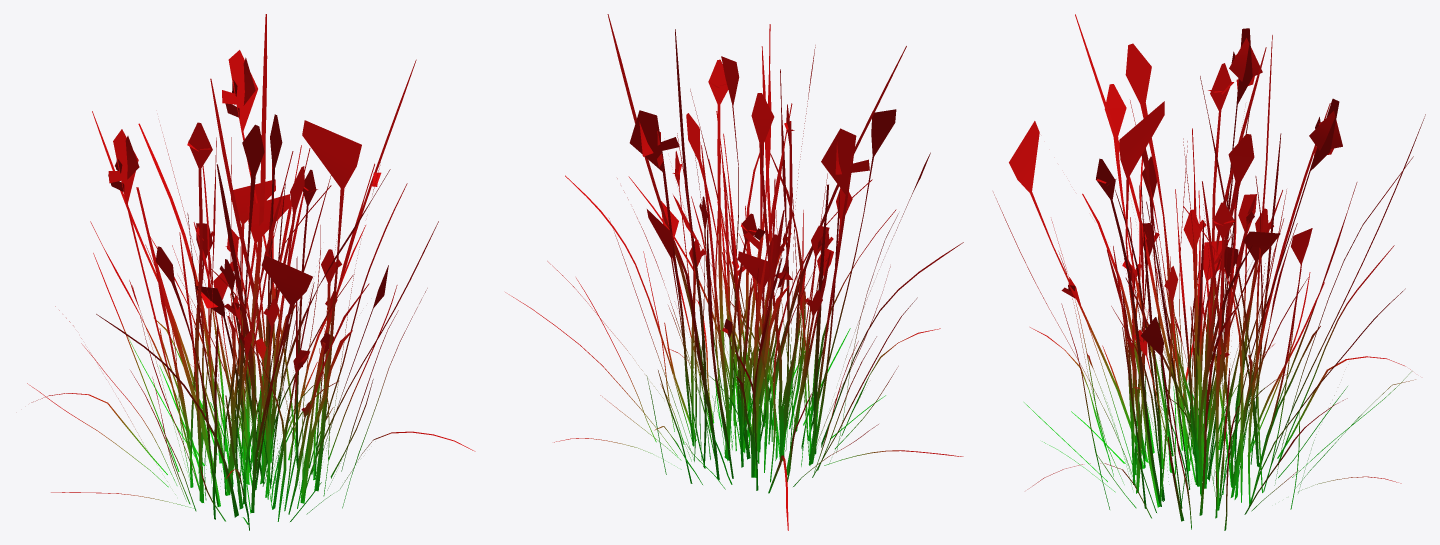
Rendered from ueyoebmia_Var7_LOD1.fbx.
3 views of the same model, side by side, from view 1: azimuth 30°, elevation 25°; view 2: azimuth 150°, elevation 25°; view 3: azimuth 270°, elevation 25° (orthographic). The views are drawn at different scales.
Visible parts, largest first — view 1: _5fd6_Var7_LOD1; view 2: _5fd6_Var7_LOD1; view 3: _5fd6_Var7_LOD1.
Boxes of the visible parts, x1=… form: _5fd6_Var7_LOD1: x1=27, y1=14, x2=475, y2=530; _5fd6_Var7_LOD1: x1=505, y1=14, x2=963, y2=530; _5fd6_Var7_LOD1: x1=993, y1=14, x2=1425, y2=530.
Size of the model in its own units: 42.39 by 45.81 by 37.91.
